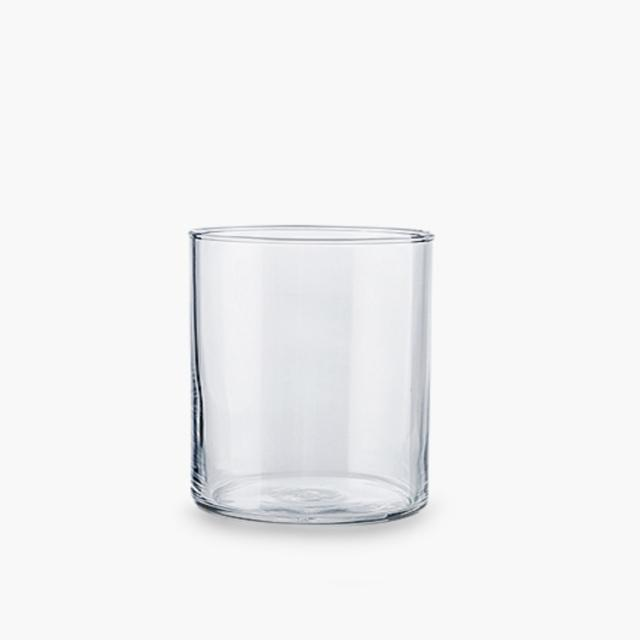recyclable: (160, 187, 470, 552)
